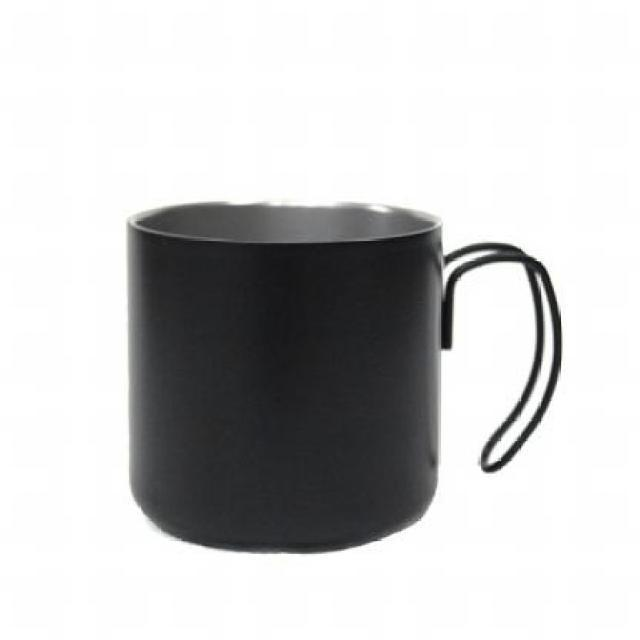taza: (126, 200, 564, 554)
